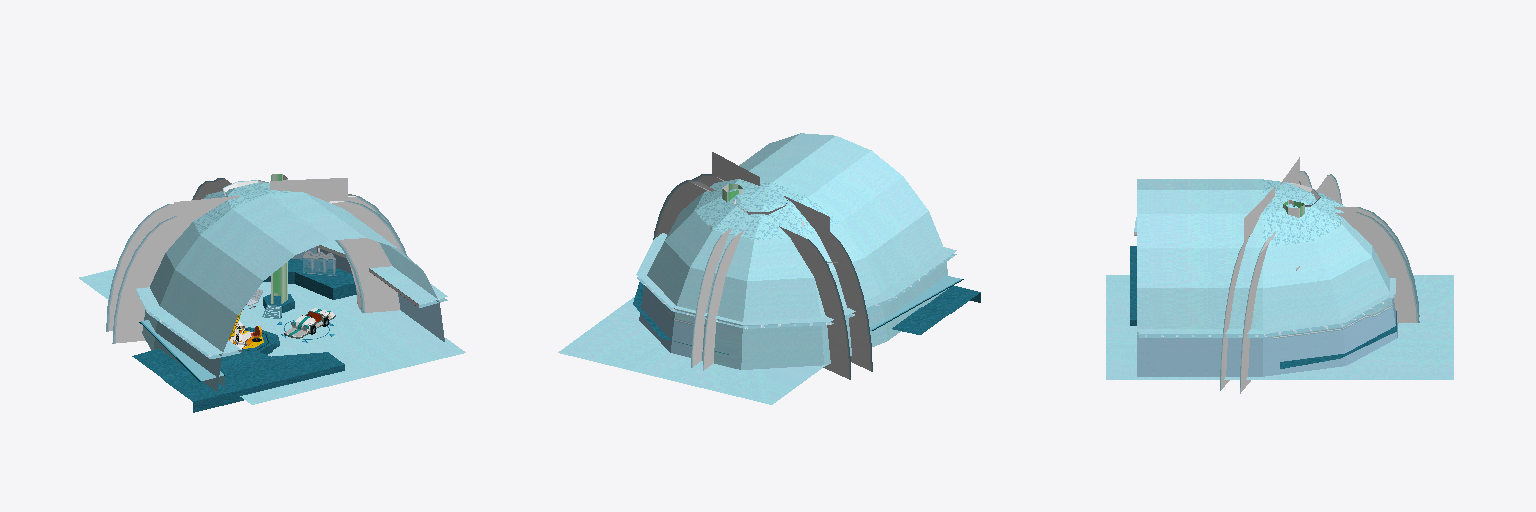
3 views of the same model, side by side, from view 1: azimuth 30°, elevation 25°; view 2: azimuth 150°, elevation 25°; view 3: azimuth 270°, elevation 25° (orthographic).
Parts seen in each view (by area): view 1: polygon45, polygon46, polygon44, polygon36, polygon34, polygon25, polygon21, polygon47, polygon14; view 2: polygon45, polygon46, polygon36, polygon44, polygon34, polygon32, polygon21; view 3: polygon45, polygon34, polygon46, polygon36, polygon44, polygon32.
Boxes of the visible parts, <box> form: polygon45: <box>79,192,465,404</box>; polygon46: <box>106,178,407,343</box>; polygon44: <box>132,259,356,412</box>; polygon36: <box>193,182,290,234</box>; polygon34: <box>291,247,444,341</box>; polygon25: <box>265,313,346,346</box>; polygon21: <box>139,320,224,387</box>; polygon47: <box>223,189,334,348</box>; polygon14: <box>302,251,336,276</box>; polygon45: <box>558,133,956,404</box>; polygon46: <box>653,152,872,379</box>; polygon36: <box>694,180,839,239</box>; polygon44: <box>633,282,980,354</box>; polygon34: <box>639,285,706,360</box>; polygon32: <box>637,254,956,328</box>; polygon21: <box>869,275,963,330</box>; polygon45: <box>1106,179,1453,379</box>; polygon34: <box>1137,298,1397,376</box>; polygon46: <box>1220,157,1419,393</box>; polygon36: <box>1263,179,1341,246</box>; polygon44: <box>1130,246,1396,368</box>; polygon32: <box>1138,294,1394,337</box>.
Bounding box in the file's own units: 13.65 × 7.02 × 14.89.
Materials: 49 (49 with a texture image).